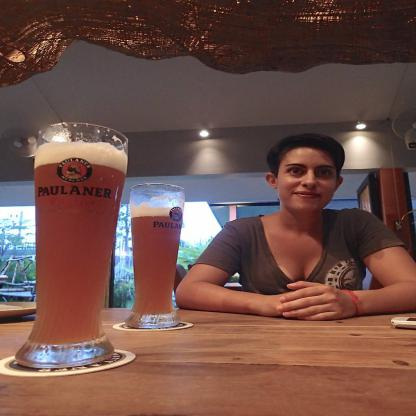drinking: (16, 123, 130, 369), (124, 183, 185, 329)
